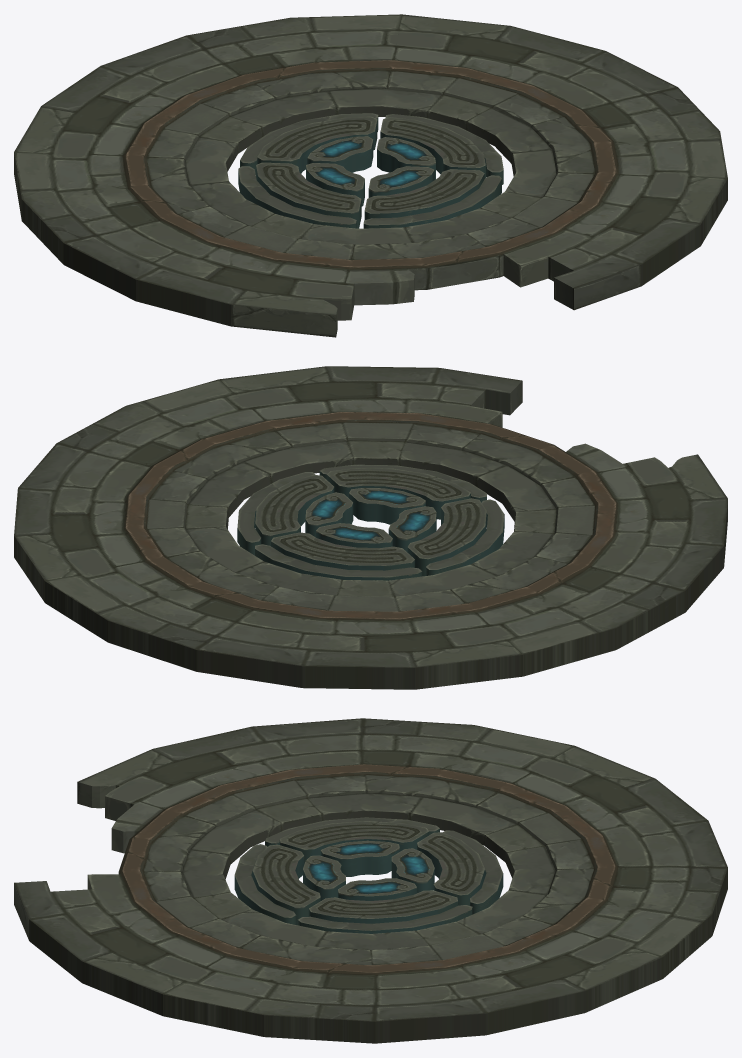
File: yw_newshanlin_zuizhongpingtai_001.FBX
The picture shows the model from 3 angles, top to bottom: view 1: azimuth 30°, elevation 25°; view 2: azimuth 150°, elevation 25°; view 3: azimuth 270°, elevation 25°; orthographic projection.
Parts seen in each view (by area): view 1: yw_newshanlin_zuizhongpingtai_001; view 2: yw_newshanlin_zuizhongpingtai_001; view 3: yw_newshanlin_zuizhongpingtai_001.
Part boxes in pixels (box(x1,y1,x2,y2)): yw_newshanlin_zuizhongpingtai_001: box(14, 14, 727, 337); yw_newshanlin_zuizhongpingtai_001: box(14, 366, 727, 689); yw_newshanlin_zuizhongpingtai_001: box(14, 718, 727, 1043).
Size of the model in its own units: 188 by 187 by 6.74.
